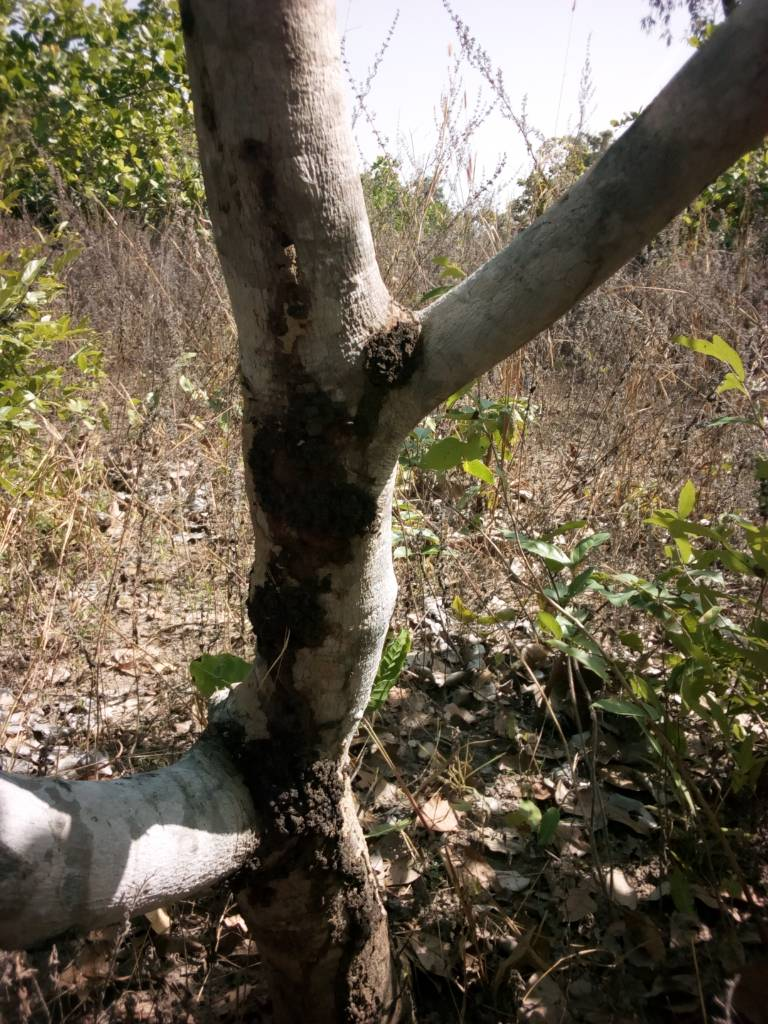Termites: (244, 321, 427, 572), (265, 721, 375, 1024)
